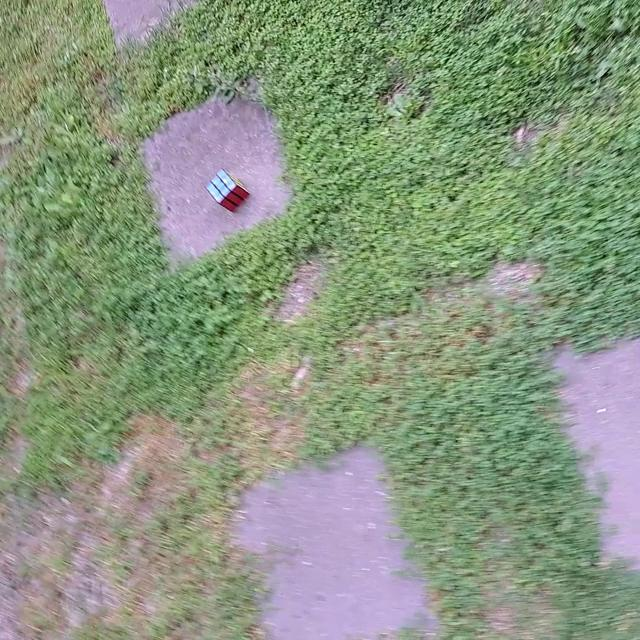rubix_cube: (202, 164, 251, 214)
